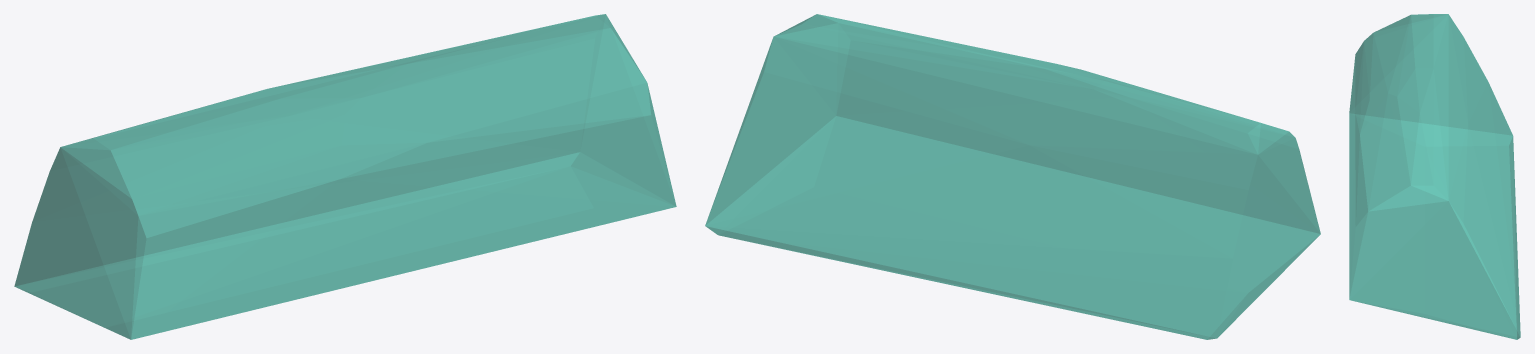
The picture shows the model from 3 angles, left to right: view 1: azimuth 30°, elevation 25°; view 2: azimuth 150°, elevation 25°; view 3: azimuth 270°, elevation 25°; orthographic projection. The views are drawn at different scales.
Visible parts, largest first — view 1: Shape_IndexedFaceSet.016_Shape_IndexedFaceSet.18107; view 2: Shape_IndexedFaceSet.016_Shape_IndexedFaceSet.18107; view 3: Shape_IndexedFaceSet.016_Shape_IndexedFaceSet.18107.
Part boxes in pixels (left/top/right/bottom): Shape_IndexedFaceSet.016_Shape_IndexedFaceSet.18107: left=14, top=14, right=676, bottom=339; Shape_IndexedFaceSet.016_Shape_IndexedFaceSet.18107: left=705, top=14, right=1320, bottom=339; Shape_IndexedFaceSet.016_Shape_IndexedFaceSet.18107: left=1349, top=14, right=1520, bottom=339.
Bounding box in the file's own units: 0.4918 × 0.1725 × 0.1821.
